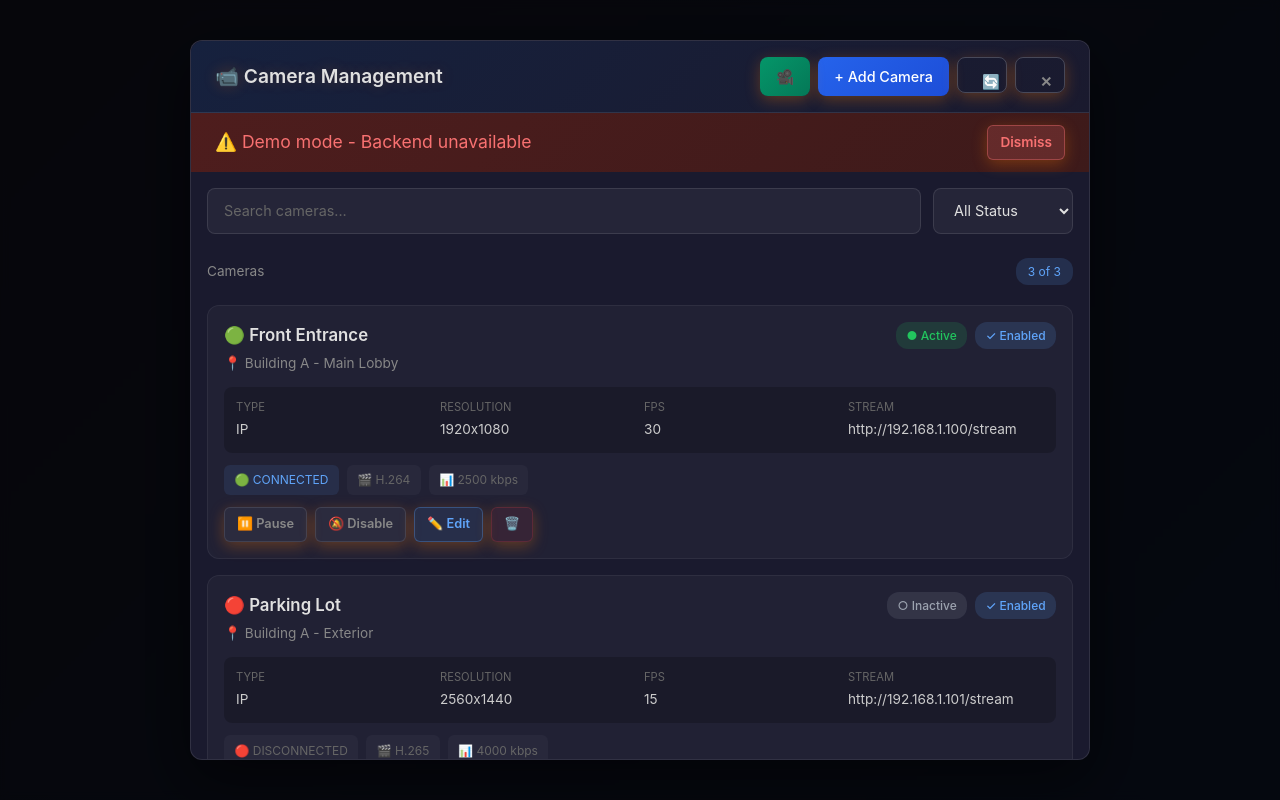
it: CameraManager Component › Error Handling › dismisses error when clicking dismiss button
Expected: the text "⚠️ Demo mode - Backend unavailable" is shown, [215,128,532,156]
Click the button "Dismiss" at {"x": 1026, "y": 142}, box [987,125,1065,160]
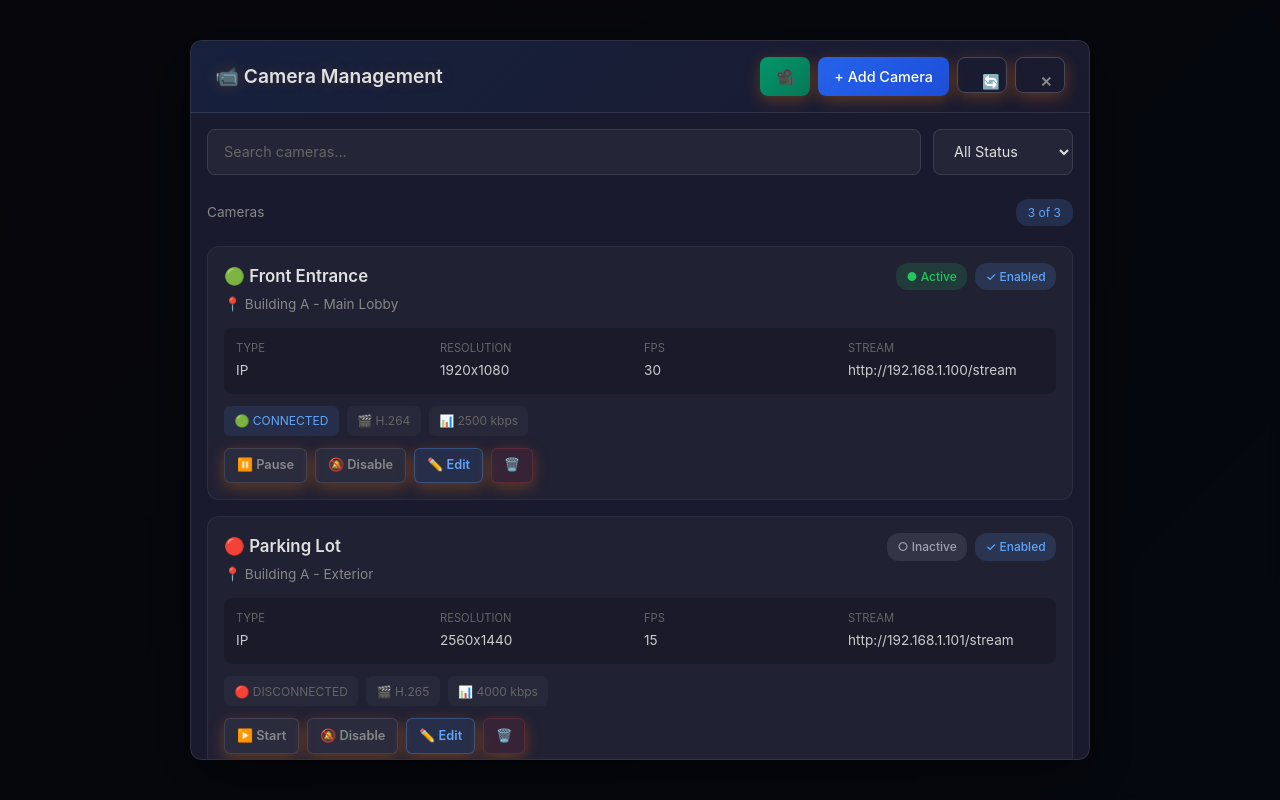
Expected: the text "Demo mode - Backend unavailable" is gone
